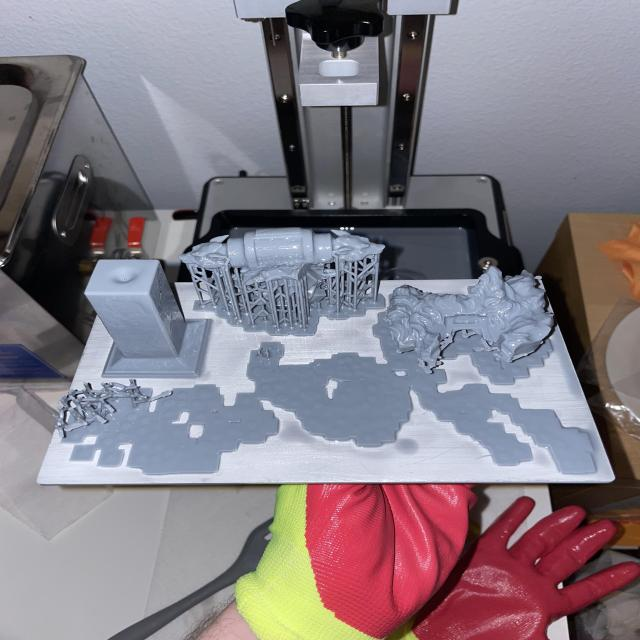Without deffect: (56, 231, 608, 476)
